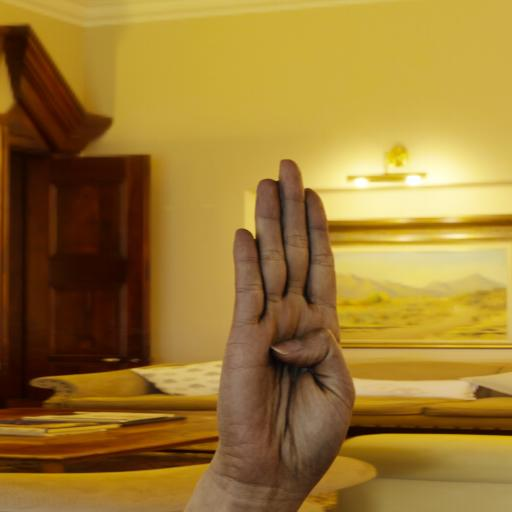B: (202, 144, 377, 498)
